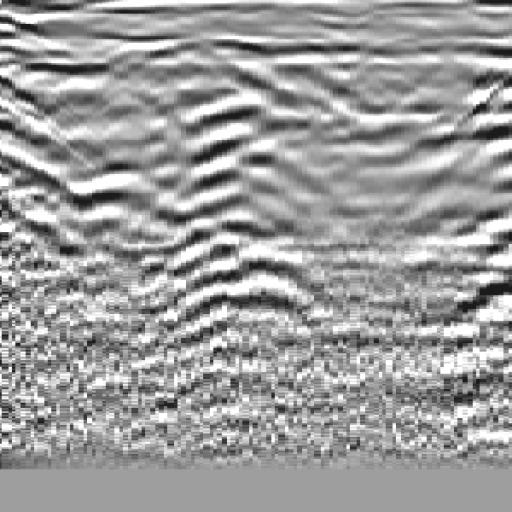metalic: (46, 45, 178, 310)
non-metallic: (144, 64, 318, 329)
nonmetalic: (392, 47, 512, 310)
